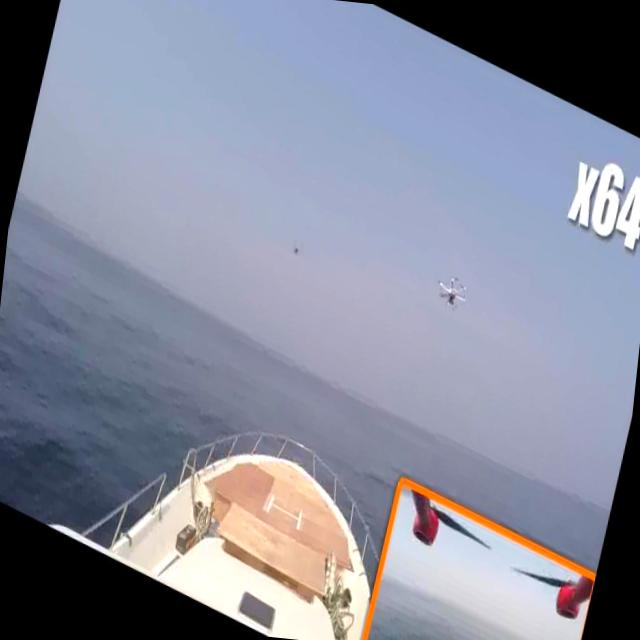drone: (426, 258, 480, 328)
